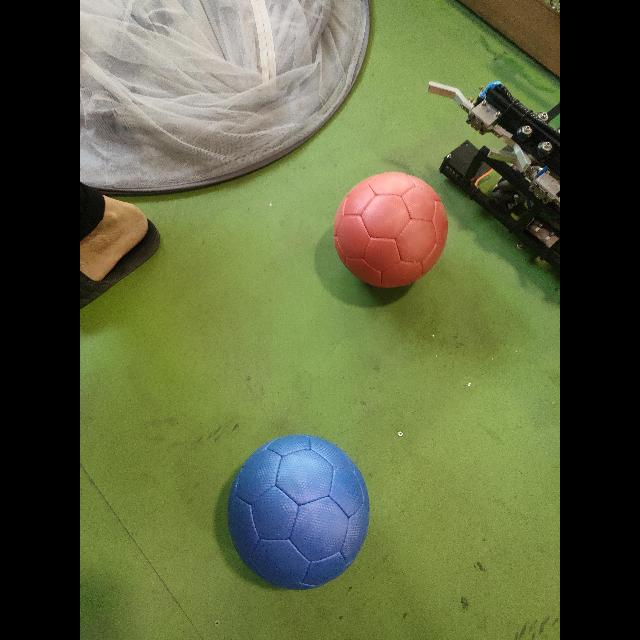B: (221, 434, 371, 593)
R: (333, 172, 449, 293)
